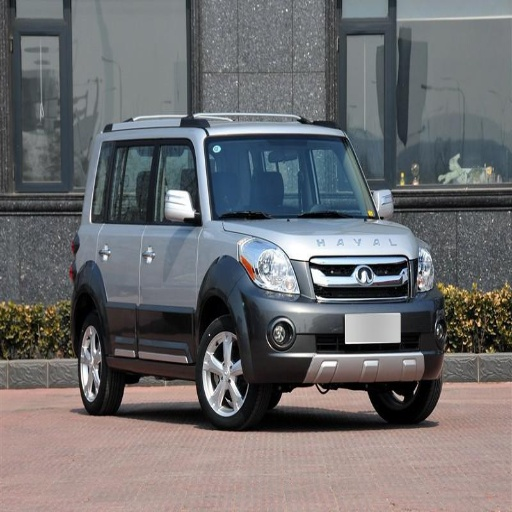front_bumper: (234, 257, 441, 386)
front_right_door: (138, 139, 202, 357)
front_right_light: (240, 239, 303, 297)
hood: (227, 220, 418, 259)
